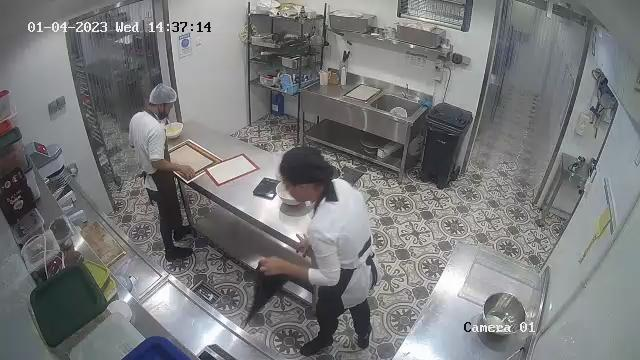apron: (147, 119, 179, 224), (339, 238, 378, 285)
